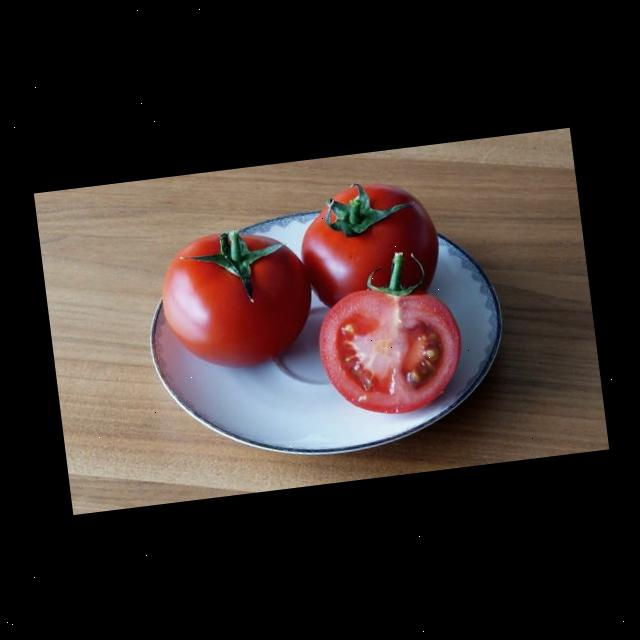tomato: (147, 216, 318, 378), (308, 274, 468, 421), (279, 171, 450, 299)
